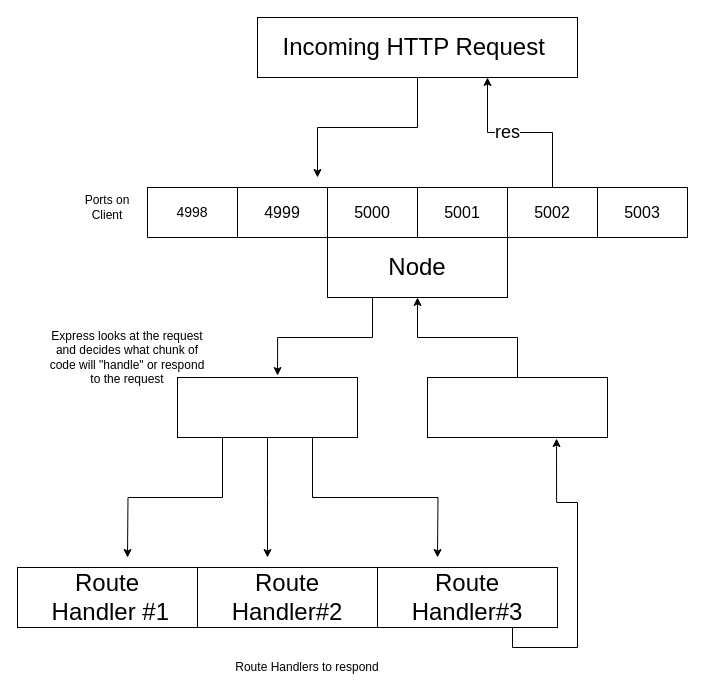
The diagram is 705 pixels wide and 695 high, and some of its shapes have lost their labels. Each missing label, with the centre of its shape:
Express: the point at 267,407
Response: the point at 517,407
